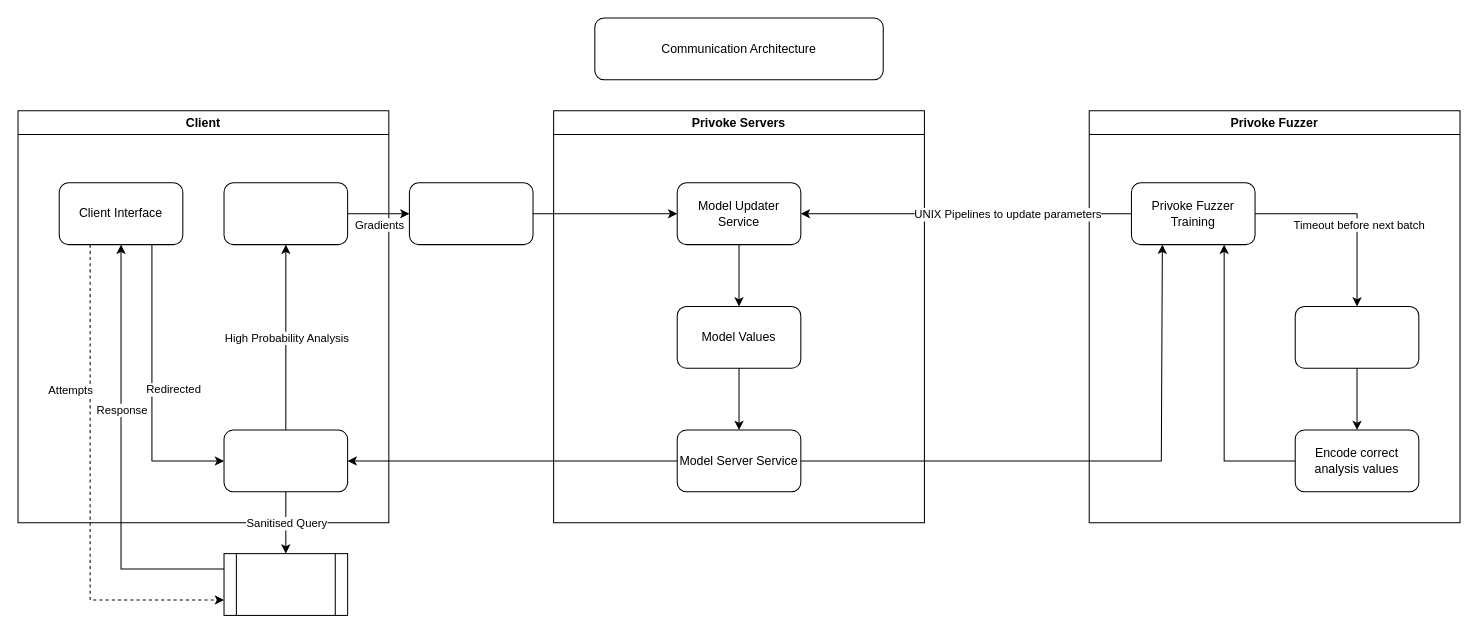
Some shapes in this 1478 by 633 pixel diagram are drawn without their labels. The centre of each missing label's shape, as x and y in pixels:
FL / DP Pipeline: (470,213)
Generate Local Query w/ Training Data: (1356,336)
OpenAI API: (285,584)
Privoke Local Execution: (285,460)
Privoke Local Training: (285,213)
